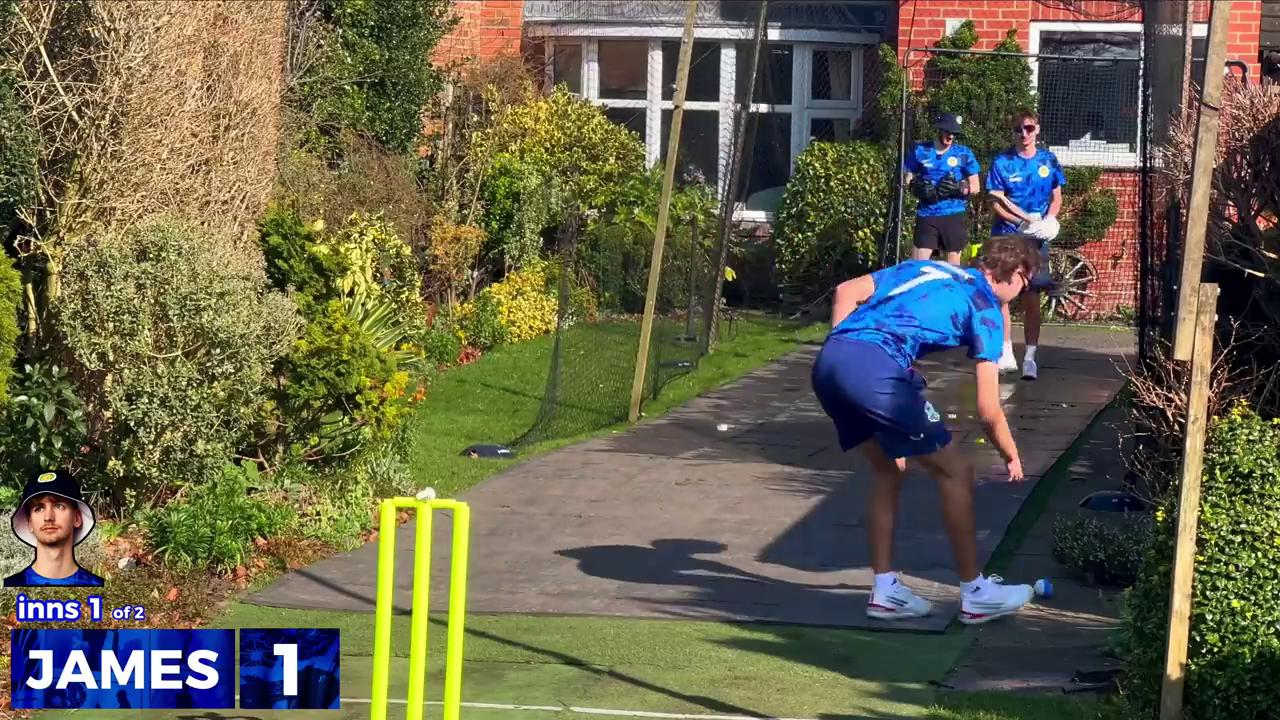ball: (1029, 572, 1062, 600)
